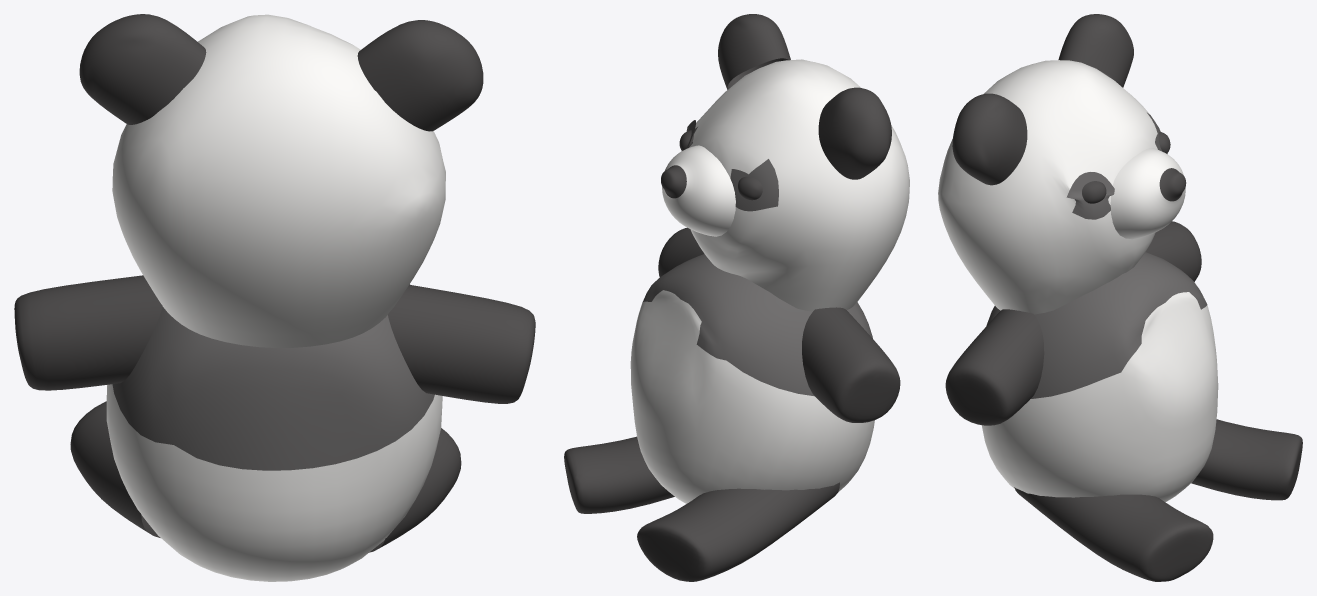
File: Toy_Panda.fbx
3 renders of one model, left to right at view 1: azimuth 30°, elevation 25°; view 2: azimuth 150°, elevation 25°; view 3: azimuth 270°, elevation 25°, orthographic. The views are drawn at different scales.
Parts seen in each view (by area): view 1: Toy_Panda; view 2: Toy_Panda; view 3: Toy_Panda.
Boxes of the visible parts, bbox=[...] form: Toy_Panda: bbox=[14, 14, 535, 581]; Toy_Panda: bbox=[564, 14, 909, 581]; Toy_Panda: bbox=[938, 14, 1302, 581].
Bounding box in the file's own units: 495 × 636 × 471.
